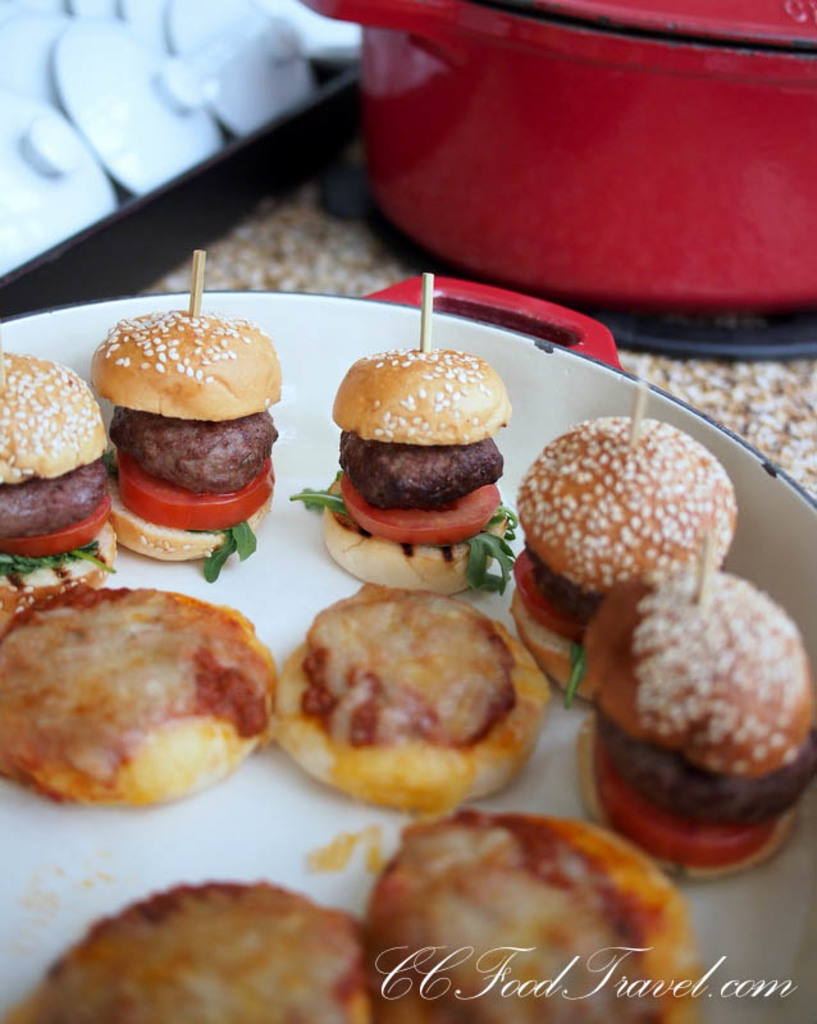Hamburger: (17, 798, 699, 1022), (0, 552, 558, 816), (564, 564, 809, 861), (493, 418, 724, 700), (71, 304, 280, 560), (316, 340, 510, 578), (0, 345, 121, 546)
